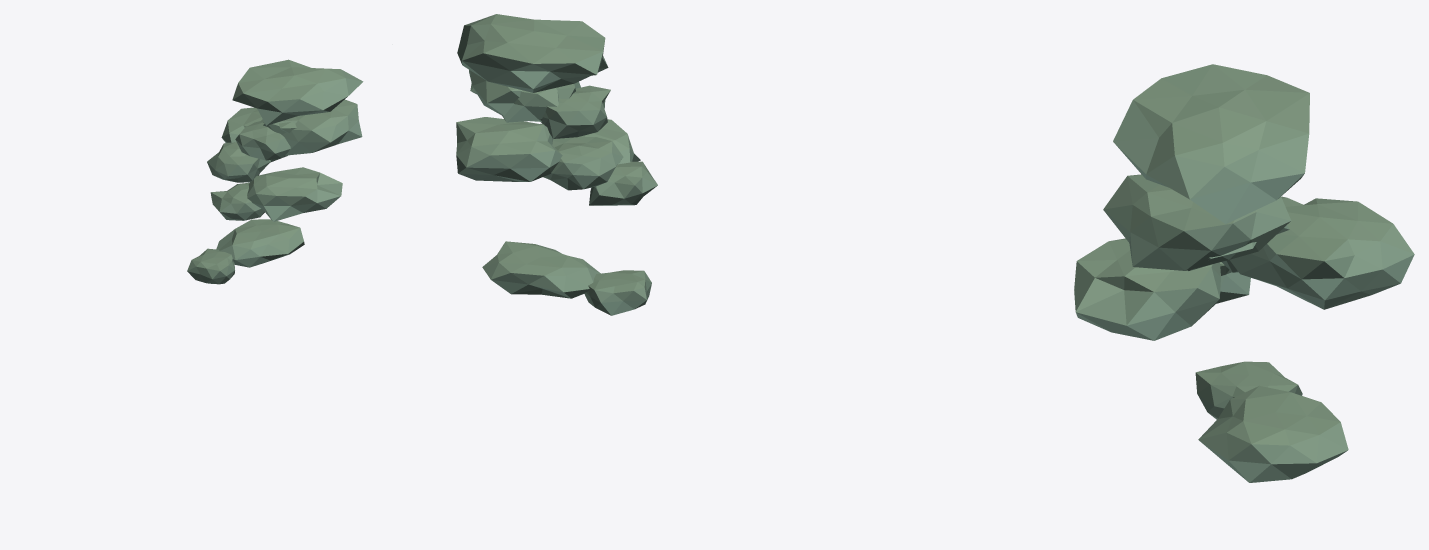
File: LonePine_leaf.glb
The picture shows the model from 3 angles, left to right: view 1: azimuth 30°, elevation 25°; view 2: azimuth 150°, elevation 25°; view 3: azimuth 270°, elevation 25°; orthographic projection. The views are drawn at different scales.
Parts seen in each view (by area): view 1: LonePine_leaf; view 2: LonePine_leaf; view 3: LonePine_leaf.
Part boxes in pixels (x1,y1,x2,y2): LonePine_leaf: (187,59,363,284); LonePine_leaf: (456,14,657,315); LonePine_leaf: (1074,64,1414,482).
Bounding box in the file's own units: 35.23 × 31.17 × 14.87.
